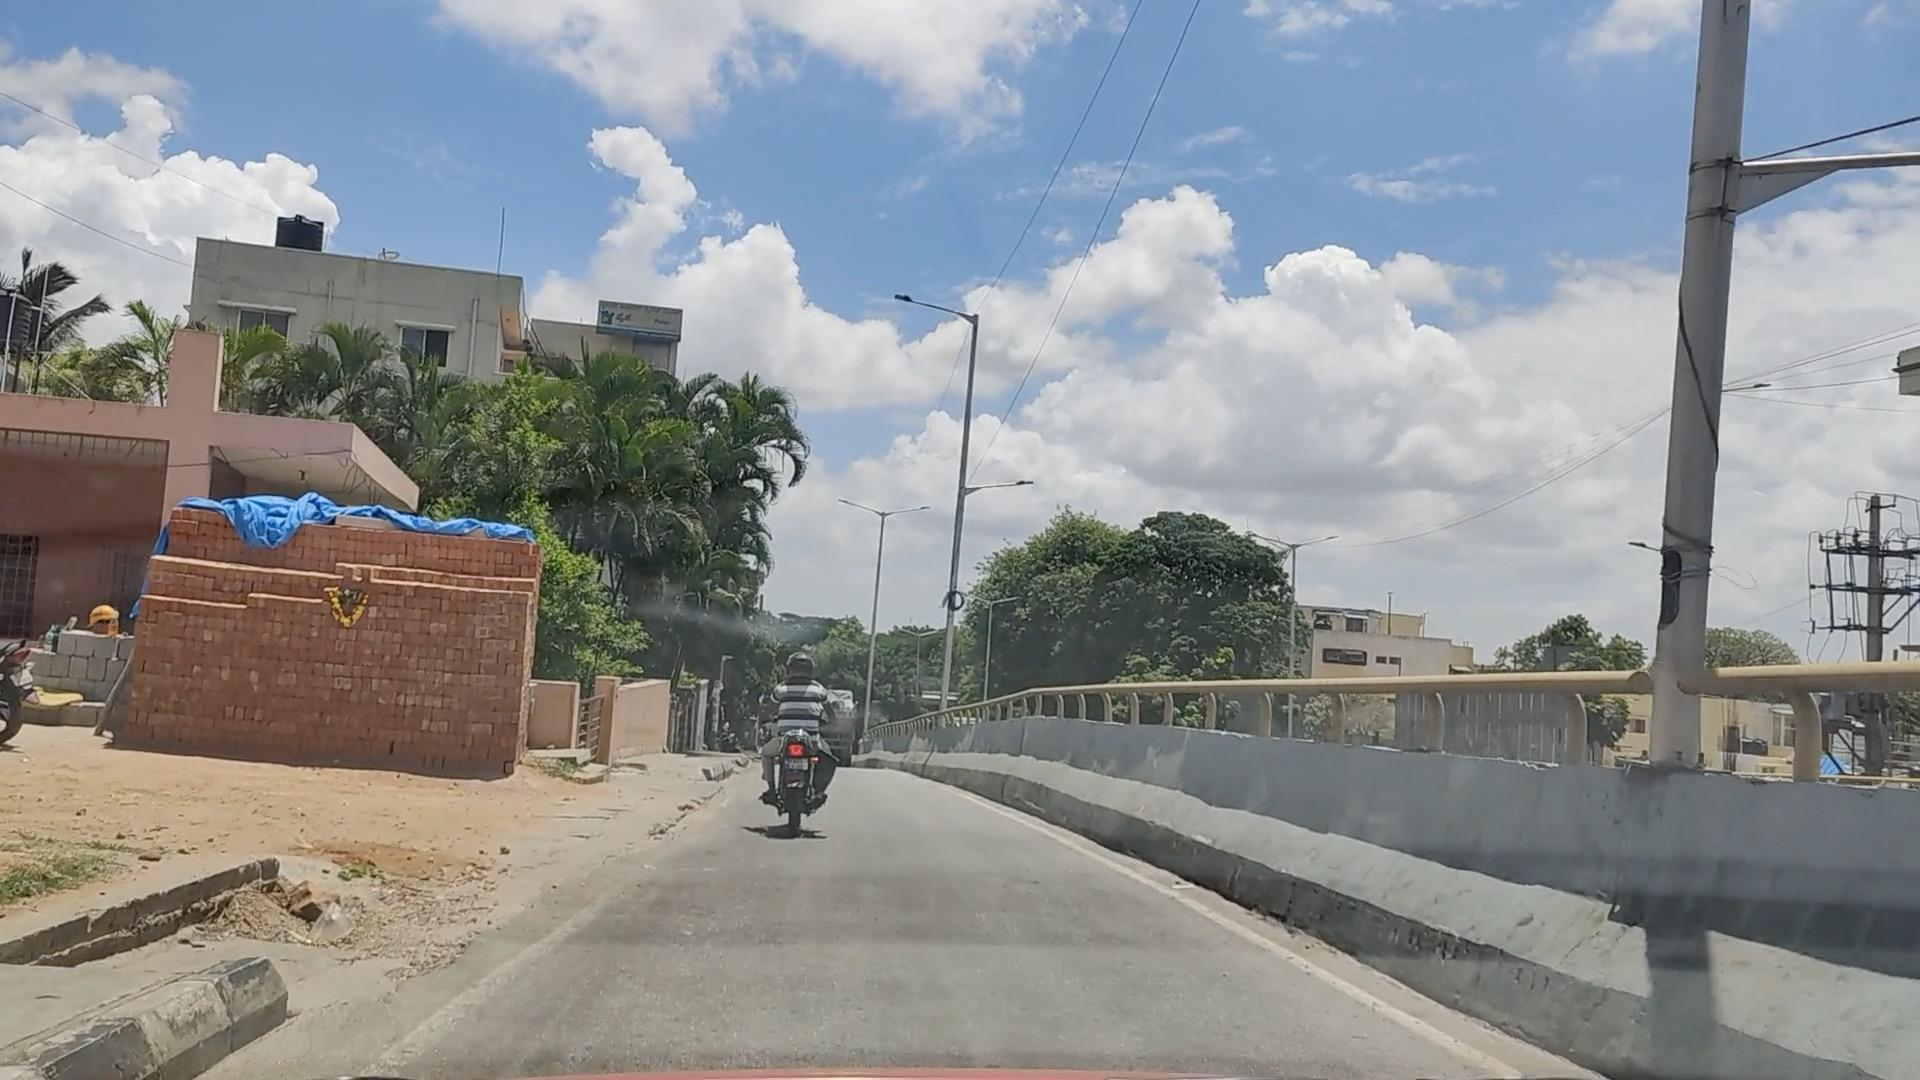LMV: (777, 653, 835, 831)
RoadDamages: (220, 857, 508, 989)
